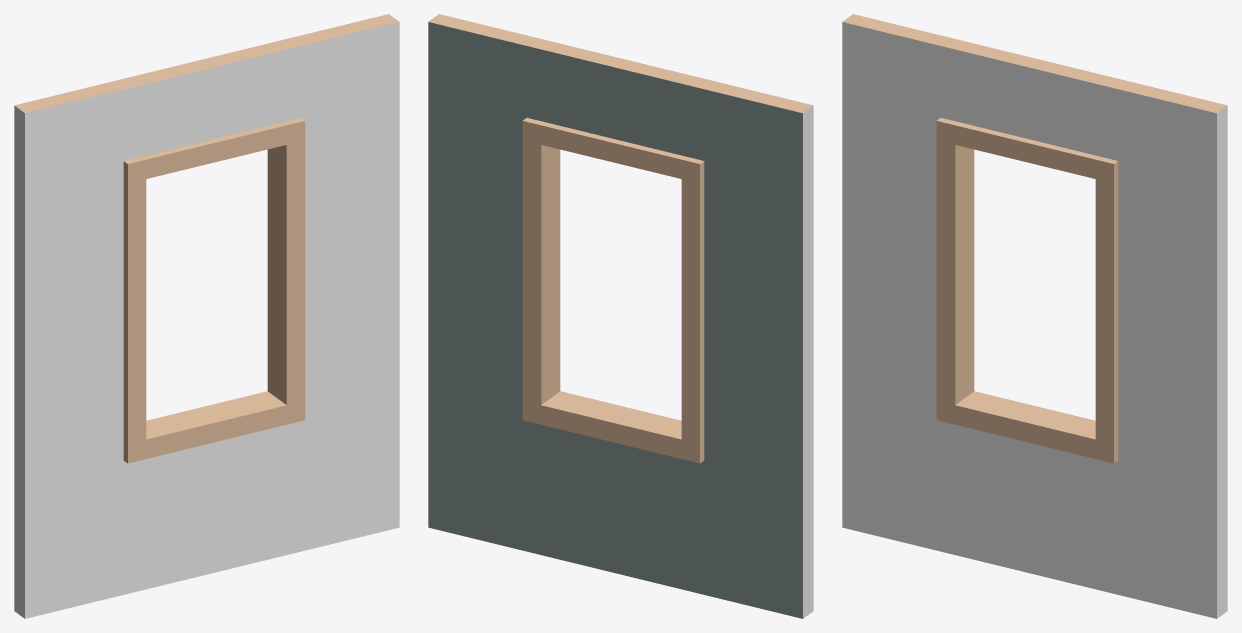
File: wallWindow.glb
The picture shows the model from 3 angles, left to right: view 1: azimuth 30°, elevation 25°; view 2: azimuth 150°, elevation 25°; view 3: azimuth 330°, elevation 25°; orthographic projection.
Visible parts, largest first — view 1: wallWindow(Clone); view 2: wallWindow(Clone); view 3: wallWindow(Clone).
Boxes of the visible parts, x1,y1,x2,y2 form: wallWindow(Clone): (14,14,399,618); wallWindow(Clone): (428,14,813,618); wallWindow(Clone): (842,14,1227,618).
Bounding box in the file's own units: 1 × 1.29 × 0.0891.
